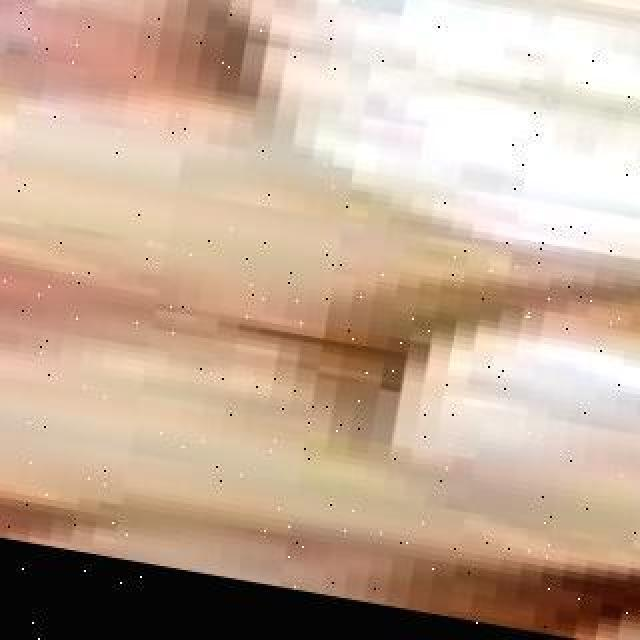spacing: (498, 194, 640, 380)
